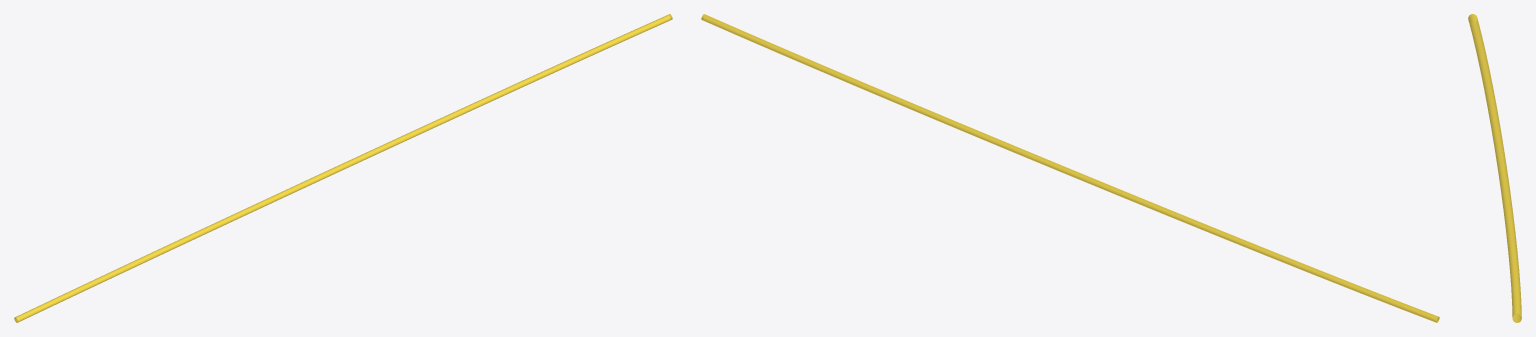
Rendered from Event_17758602_track_56.fbx.
3 views of the same model, side by side, from view 1: azimuth 30°, elevation 25°; view 2: azimuth 150°, elevation 25°; view 3: azimuth 270°, elevation 25° (orthographic). The views are drawn at different scales.
Parts seen in each view (by area): view 1: Model; view 2: Model; view 3: Model.
Boxes of the visible parts, x1=… form: Model: x1=14, y1=14, x2=672, y2=322; Model: x1=701, y1=14, x2=1439, y2=322; Model: x1=1468, y1=14, x2=1521, y2=322.
Bounding box in the file's own units: 5.03 × 0.9668 × 0.23.
